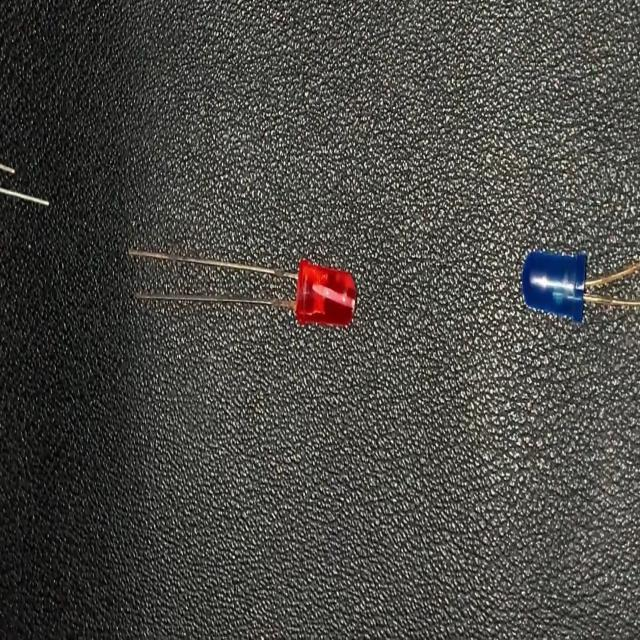LED: (128, 246, 360, 332), (518, 246, 640, 324)
rust: (600, 259, 640, 288)
